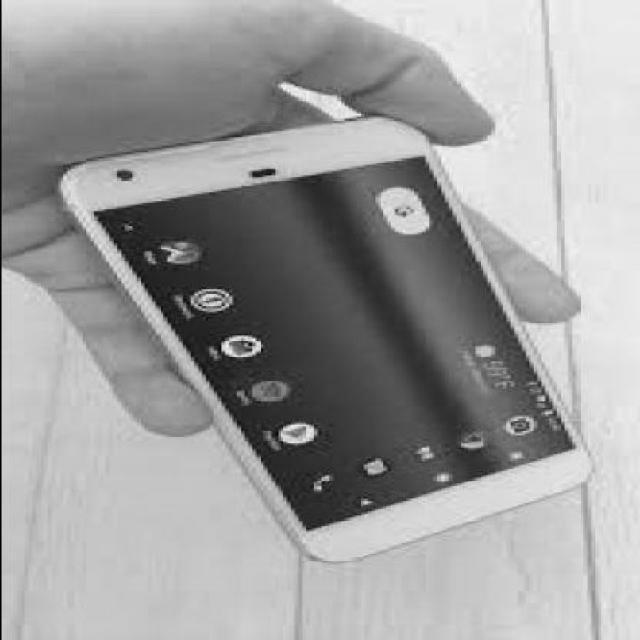fake: (54, 114, 594, 566)
